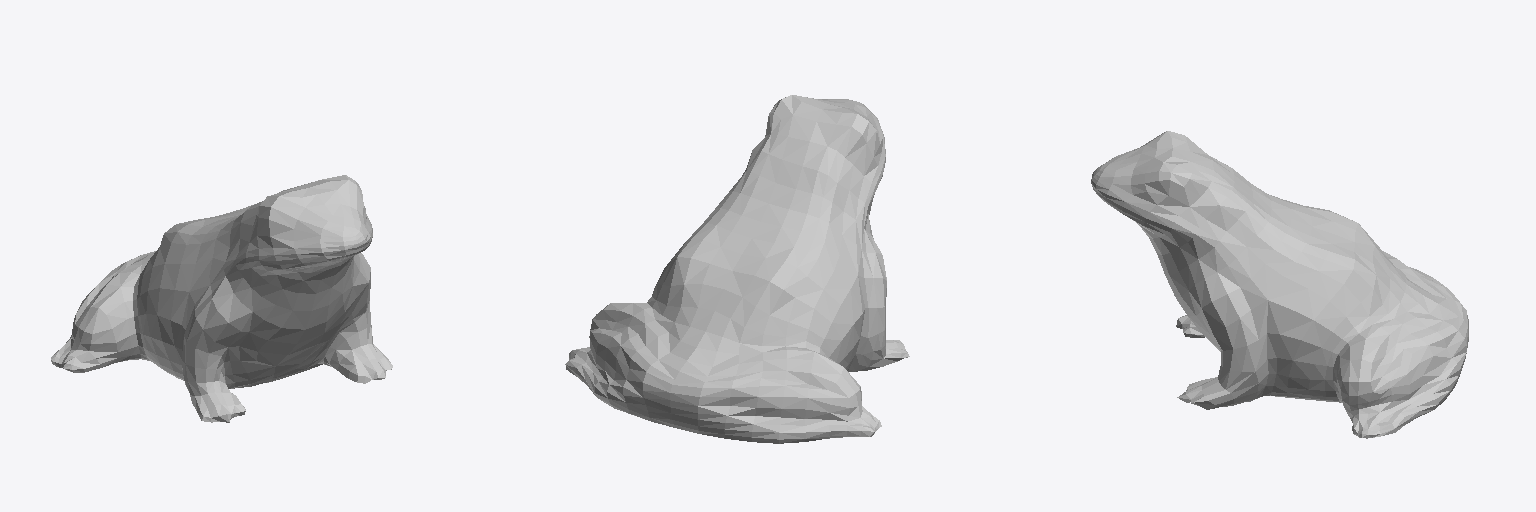
The model's file is frog.obj.
3 views of the same model, side by side, from view 1: azimuth 30°, elevation 25°; view 2: azimuth 150°, elevation 25°; view 3: azimuth 270°, elevation 25° (orthographic).
Parts seen in each view (by area): view 1: Ceramic-frog_low-poly; view 2: Ceramic-frog_low-poly; view 3: Ceramic-frog_low-poly.
Part boxes in pixels (left/top/right/bottom): Ceramic-frog_low-poly: left=51, top=175, right=392, bottom=422; Ceramic-frog_low-poly: left=565, top=95, right=909, bottom=443; Ceramic-frog_low-poly: left=1091, top=131, right=1468, bottom=438.
Size of the model in its own units: 0.2497 by 0.1691 by 0.2627.